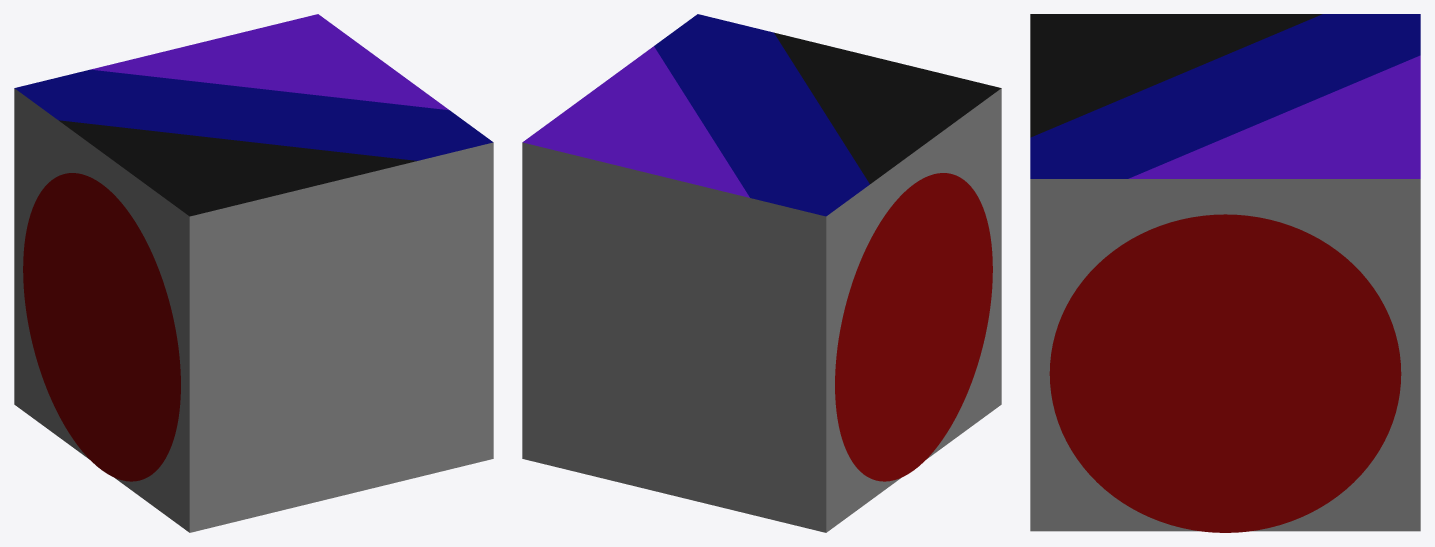
File: Blue1.FBX
The picture shows the model from 3 angles, left to right: view 1: azimuth 30°, elevation 25°; view 2: azimuth 150°, elevation 25°; view 3: azimuth 270°, elevation 25°; orthographic projection. The views are drawn at different scales.
Visible parts, largest first — view 1: Body, WheelR; view 2: Body, WheelR; view 3: Body, WheelL.
Part boxes in pixels (x1,y1,x2,y2): Body: (14, 14, 493, 532); WheelR: (23, 173, 180, 481); Body: (522, 14, 1001, 532); WheelR: (835, 173, 992, 481); Body: (1030, 14, 1420, 531); WheelL: (1049, 214, 1401, 532).
Size of the model in its own units: 7.87 by 7.87 by 7.87.
